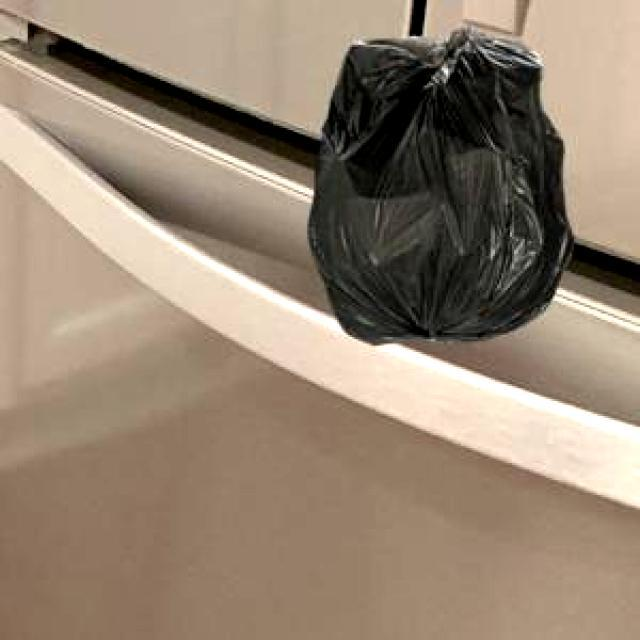Garbage_Bag: (306, 22, 571, 342)
